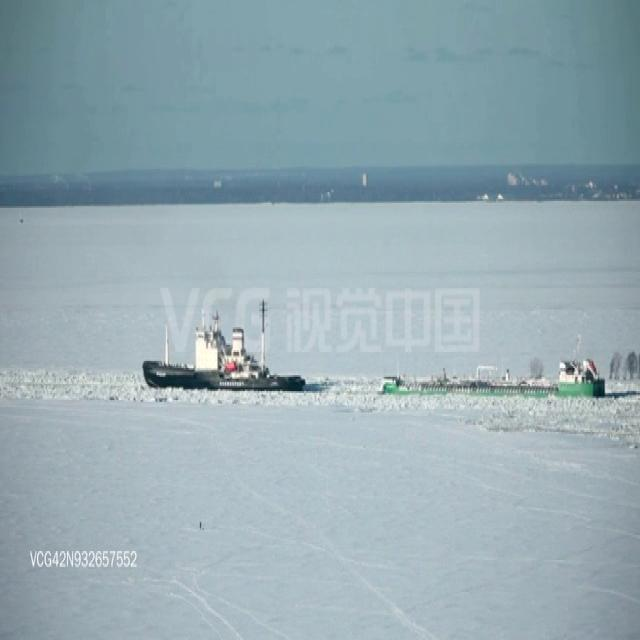cargoship: (378, 345, 609, 398)
houseboat: (139, 301, 325, 394)
